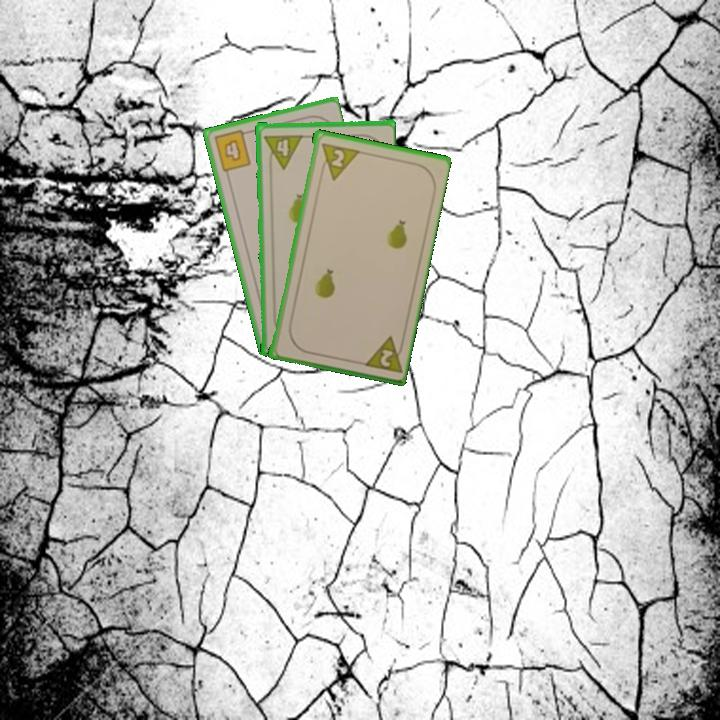2p: (317, 139, 360, 183), (376, 345, 396, 370)
4b: (210, 127, 253, 174)
4p: (260, 130, 304, 171)
